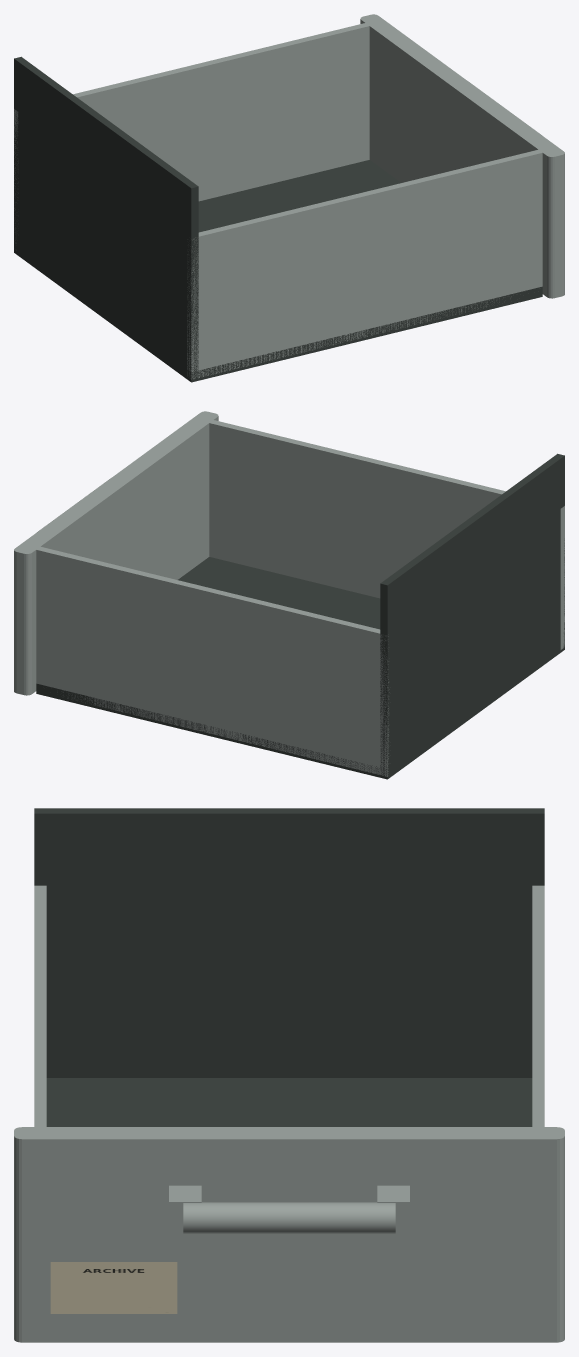
Rendered from SM_ArchiveProps_FireDrawer.fbx.
The picture shows the model from 3 angles, top to bottom: view 1: azimuth 30°, elevation 25°; view 2: azimuth 150°, elevation 25°; view 3: azimuth 270°, elevation 25°; orthographic projection. The views are drawn at different scales.
Parts seen in each view (by area): view 1: SM_ArchiveProps_FireDrawer; view 2: SM_ArchiveProps_FireDrawer; view 3: SM_ArchiveProps_FireDrawer.
Boxes of the visible parts, x1,y1,x2,y2 form: SM_ArchiveProps_FireDrawer: (14,14,564,382); SM_ArchiveProps_FireDrawer: (14,411,564,779); SM_ArchiveProps_FireDrawer: (14,808,564,1342).
Size of the model in its own units: 0.331 by 0.27 by 0.151.
